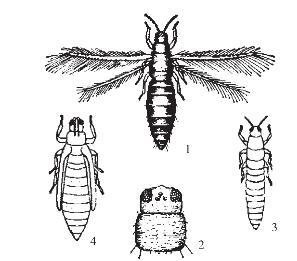Thripidae: (44, 13, 276, 151)
